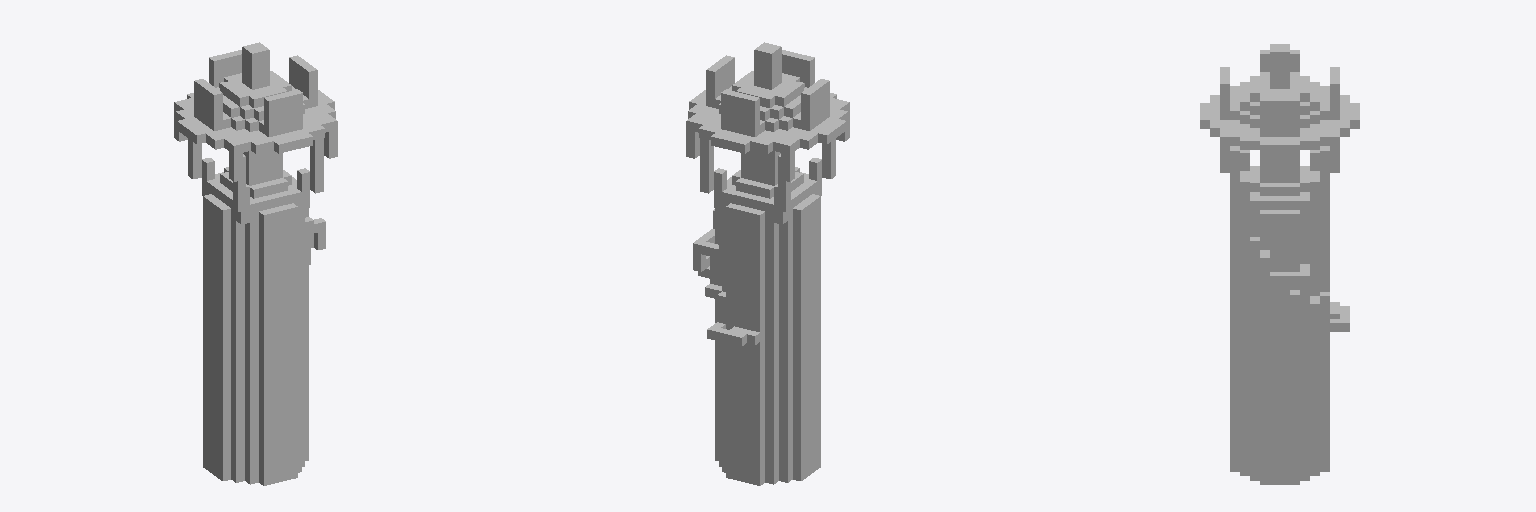
Rendered from torre.obj.
3 renders of one model, left to right at view 1: azimuth 30°, elevation 25°; view 2: azimuth 150°, elevation 25°; view 3: azimuth 270°, elevation 25°, orthographic.
Visible parts, largest first — view 1: mesh, transparent; view 2: mesh, transparent; view 3: mesh, transparent.
Part boxes in pixels (x1,y1,x2,y2): mesh: (174, 42, 337, 485); transparent: (243, 150, 282, 185); mesh: (686, 42, 849, 485); transparent: (741, 150, 780, 185); mesh: (1200, 44, 1359, 484); transparent: (1260, 154, 1299, 182).
Size of the model in its own units: 1.6 by 4.6 by 1.6.